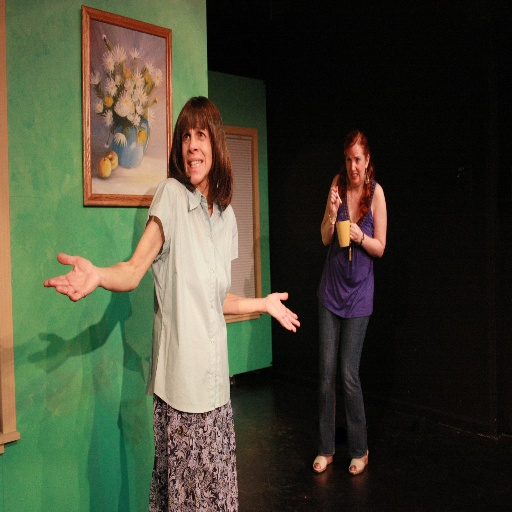hand: (43, 244, 109, 301), (264, 291, 301, 336), (328, 183, 341, 218), (349, 220, 361, 245)
